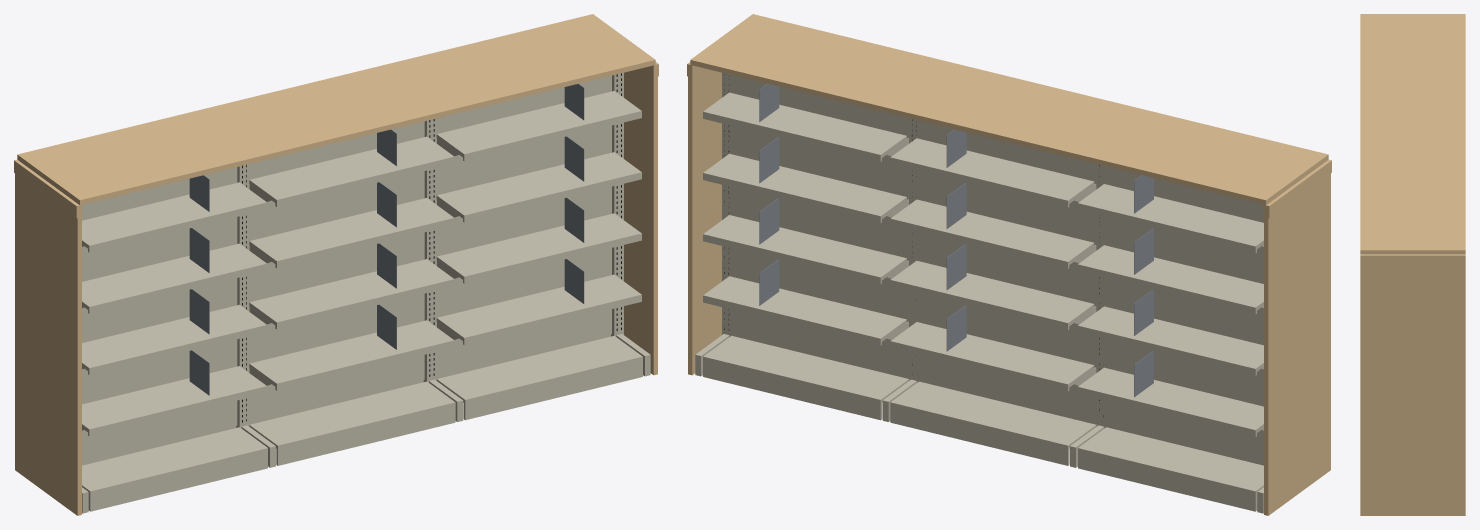
The model's file is 072_library_book_stack_double_faced.glb.
The picture shows the model from 3 angles, left to right: view 1: azimuth 30°, elevation 25°; view 2: azimuth 150°, elevation 25°; view 3: azimuth 270°, elevation 25°; orthographic projection. The views are drawn at different scales.
Parts seen in each view (by area): view 1: 162_stack_canopy_top, 160_stack_centre_divider, 114_stack_centre_divider, 163_stack_end_panel, 068_stack_centre_divider, 165_stack_end_panel, 138_stack_base_shelf, 092_stack_base_shelf, 046_stack_base_shelf, 150_stack_shelf, 145_stack_shelf, 140_stack_shelf (+28 smaller); view 2: 162_stack_canopy_top, 160_stack_centre_divider, 114_stack_centre_divider, 163_stack_end_panel, 068_stack_centre_divider, 165_stack_end_panel, 116_stack_base_shelf, 070_stack_base_shelf, 024_stack_base_shelf, 087_stack_shelf, 118_stack_shelf, 082_stack_shelf (+28 smaller); view 3: 165_stack_end_panel, 162_stack_canopy_top, 166_stack_end_panel_trim.
Part boxes in pixels (<box>): 162_stack_canopy_top: <box>17,14,655,205</box>; 160_stack_centre_divider: <box>436,75,611,376</box>; 114_stack_centre_divider: <box>249,121,424,422</box>; 163_stack_end_panel: <box>15,159,81,515</box>; 068_stack_centre_divider: <box>82,167,237,463</box>; 165_stack_end_panel: <box>624,63,657,375</box>; 138_stack_base_shelf: <box>436,335,642,403</box>; 092_stack_base_shelf: <box>249,381,455,449</box>; 046_stack_base_shelf: <box>82,427,267,495</box>; 150_stack_shelf: <box>436,152,639,218</box>; 145_stack_shelf: <box>436,213,640,279</box>; 140_stack_shelf: <box>436,274,639,340</box>; 162_stack_canopy_top: <box>690,14,1328,205</box>; 160_stack_centre_divider: <box>731,75,909,378</box>; 114_stack_centre_divider: <box>919,121,1096,424</box>; 163_stack_end_panel: <box>1264,159,1330,515</box>; 068_stack_centre_divider: <box>1106,166,1263,465</box>; 165_stack_end_panel: <box>688,63,721,375</box>; 116_stack_base_shelf: <box>703,335,909,403</box>; 070_stack_base_shelf: <box>890,381,1096,449</box>; 024_stack_base_shelf: <box>1078,427,1263,495</box>; 087_stack_shelf: <box>890,138,1094,204</box>; 118_stack_shelf: <box>703,276,906,342</box>; 082_stack_shelf: <box>890,199,1094,265</box>; 165_stack_end_panel: <box>1360,254,1465,515</box>; 162_stack_canopy_top: <box>1360,14,1465,254</box>; 166_stack_end_panel_trim: <box>1360,255,1465,265</box>.
Bounding box in the file's own units: 3 × 1.55 × 0.558.
